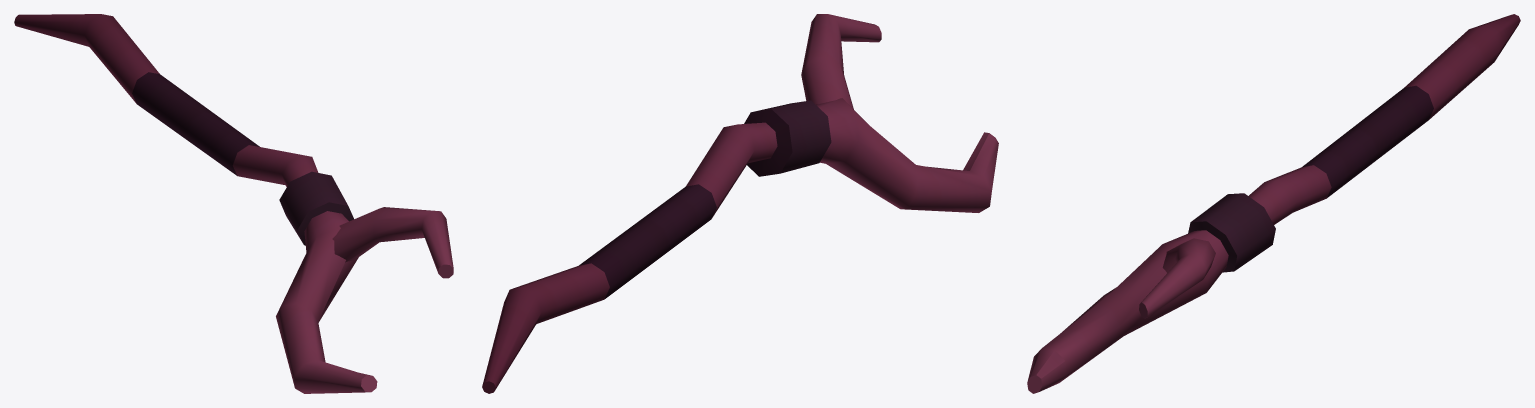
The model's file is Wand 03.FBX.
3 renders of one model, left to right at view 1: azimuth 30°, elevation 25°; view 2: azimuth 150°, elevation 25°; view 3: azimuth 330°, elevation 25°, orthographic. The views are drawn at different scales.
Visible parts, largest first — view 1: Wand 03; view 2: Wand 03; view 3: Wand 03.
Boxes of the visible parts, left/top/right/bottom form: Wand 03: left=14, top=14, right=453, bottom=393; Wand 03: left=482, top=14, right=998, bottom=393; Wand 03: left=1027, top=14, right=1520, bottom=393.
Bounding box in the file's own units: 67.41 × 61.05 × 300.
1 material, 1 textured.
